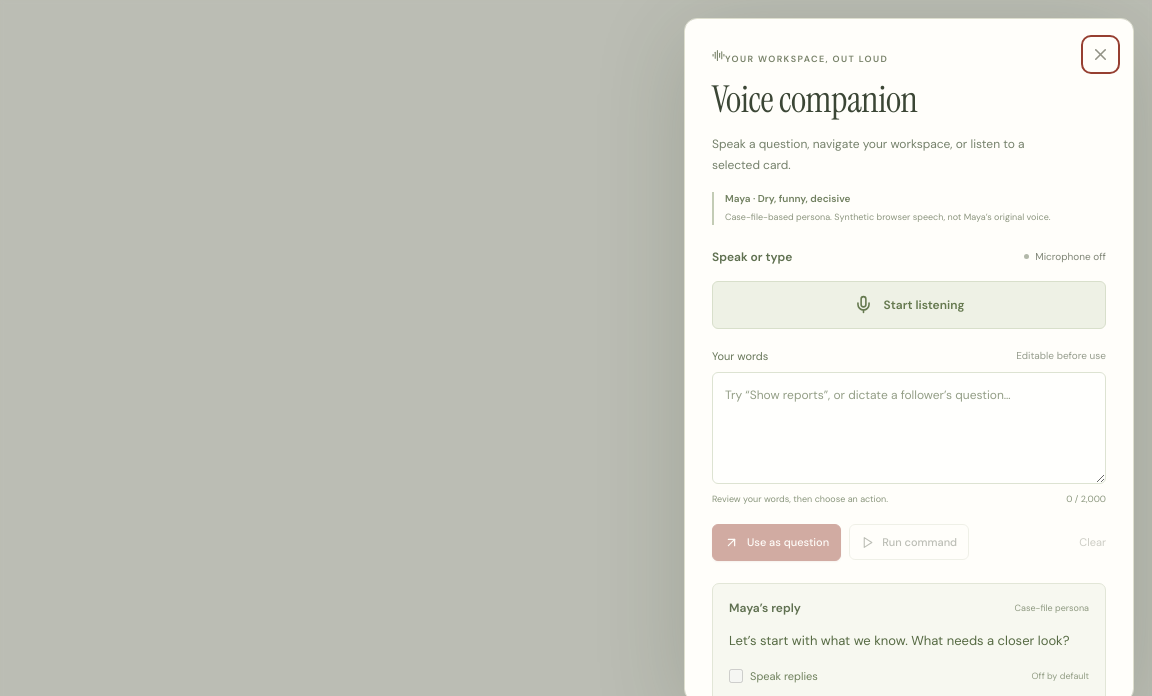
Test: voice input lifecycle with simulated browser events › retains current partial words on audio-capture error
Click the button "Start listening" at coordinates (909, 305), box top-left (712, 281), bottom-right (1106, 329)
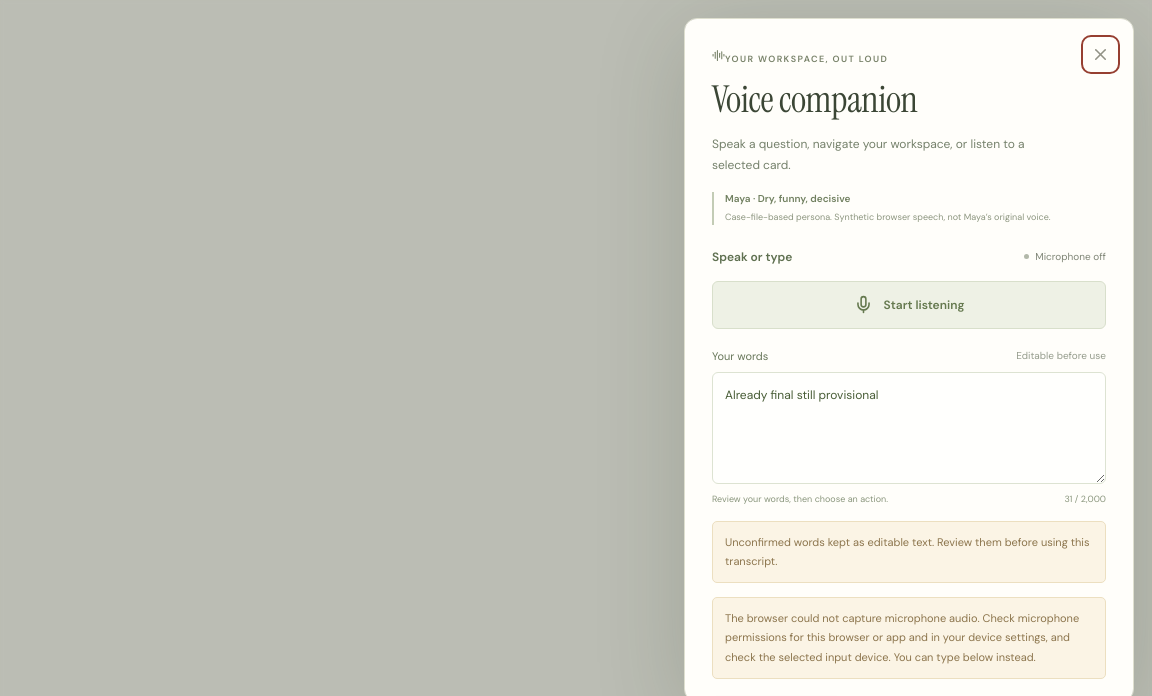
Check: the text box holds "Already final still provisional", box top-left (712, 372), bottom-right (1106, 484)
Check: the text "Unconfirmed words kept as editable text. Review them before using this transcript." is shown, box top-left (725, 535), bottom-right (1090, 568)
Check: the text "could not capture microphone audio" shows "device settings", box top-left (725, 611), bottom-right (1079, 664)
